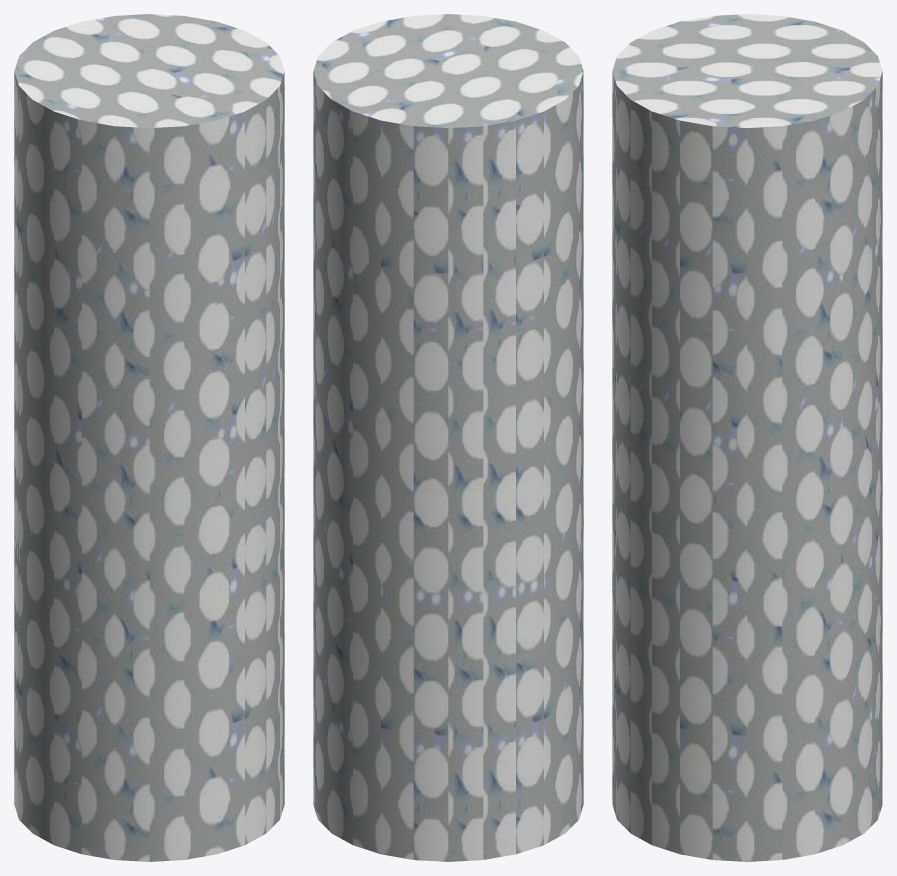
Rendered from original-77.obj.
The picture shows the model from 3 angles, left to right: view 1: azimuth 30°, elevation 25°; view 2: azimuth 150°, elevation 25°; view 3: azimuth 270°, elevation 25°; orthographic projection.
Parts seen in each view (by area): view 1: Group47/mesh56/mesh56-geometry#mesh56-geometry; view 2: Group47/mesh56/mesh56-geometry#mesh56-geometry; view 3: Group47/mesh56/mesh56-geometry#mesh56-geometry.
Part boxes in pixels (x1=…): Group47/mesh56/mesh56-geometry#mesh56-geometry: x1=14, y1=14, x2=284, y2=861; Group47/mesh56/mesh56-geometry#mesh56-geometry: x1=313, y1=14, x2=583, y2=861; Group47/mesh56/mesh56-geometry#mesh56-geometry: x1=612, y1=14, x2=882, y2=861.
Size of the model in its own units: 0.0389 by 0.1164 by 0.0389.
